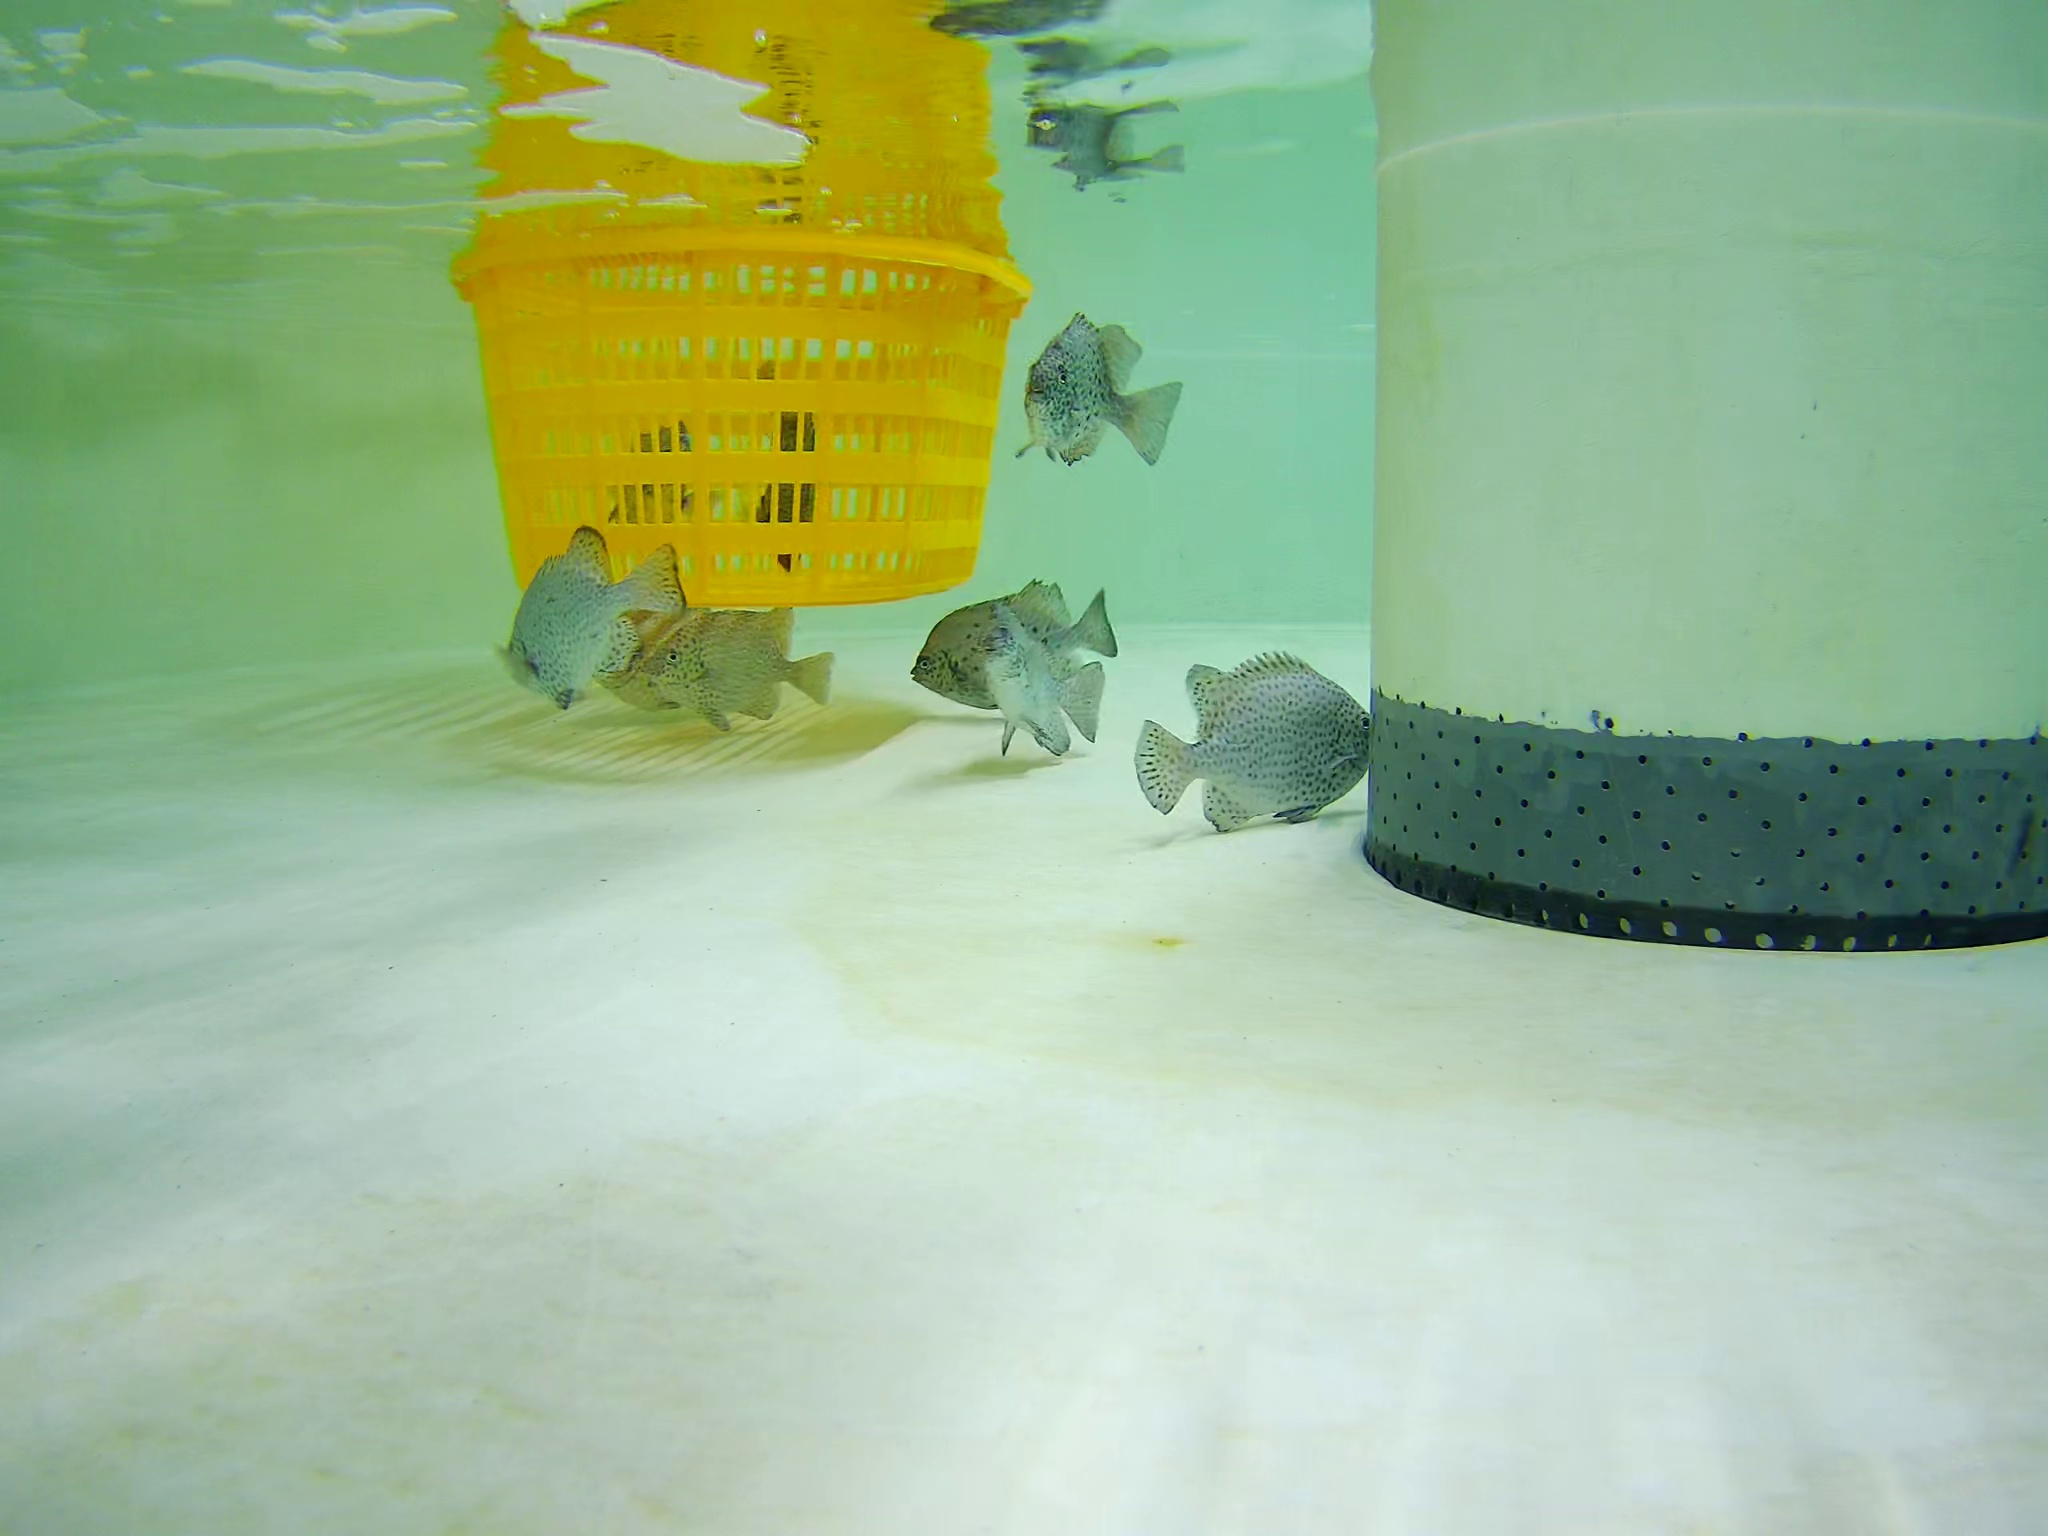fish: (1116, 650, 1372, 828), (485, 534, 690, 715), (1021, 308, 1179, 473), (898, 579, 1116, 694), (653, 607, 839, 734), (990, 624, 1108, 765), (755, 368, 816, 574), (618, 408, 710, 520)
